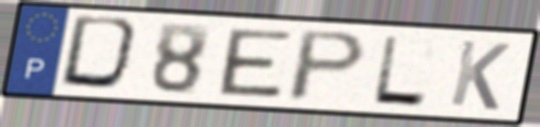8: (148, 20, 212, 96)
D: (56, 13, 148, 95)
E: (217, 27, 296, 100)
K: (446, 37, 514, 113)
L: (369, 33, 430, 110)
P: (283, 28, 372, 103)
